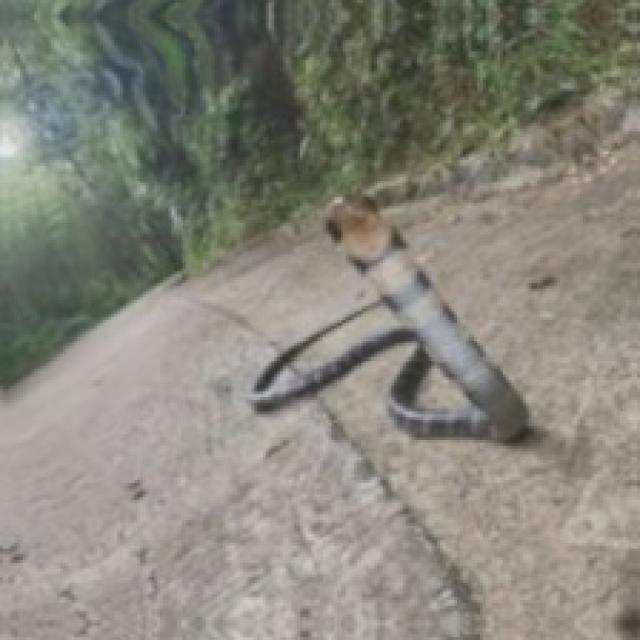king cobra: (249, 194, 526, 437)
